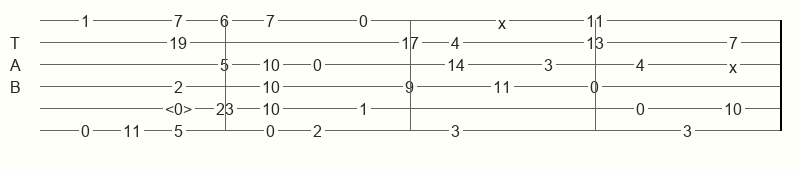0: (81, 122, 94, 138), (266, 122, 279, 138), (313, 56, 326, 72), (359, 12, 372, 28), (590, 78, 603, 94), (636, 100, 649, 116)
1: (81, 12, 94, 28), (359, 100, 372, 116)
10: (262, 78, 284, 94), (262, 100, 284, 116), (262, 56, 284, 72), (724, 100, 746, 116)
11: (123, 122, 145, 138), (493, 78, 515, 94), (586, 12, 608, 28)
13: (586, 34, 608, 50)
14: (447, 56, 469, 72)
17: (401, 34, 423, 50)
19: (169, 34, 191, 50)
2: (174, 78, 187, 94), (313, 122, 326, 138)
23: (216, 100, 238, 116)
3: (451, 122, 464, 138), (544, 56, 557, 72), (683, 122, 696, 138)
4: (451, 34, 464, 50), (636, 56, 649, 72)
5: (174, 122, 187, 138), (220, 56, 233, 72)
6: (220, 12, 233, 28)
7: (174, 12, 187, 28), (266, 12, 279, 28), (729, 34, 742, 50)
9: (405, 78, 418, 94)
harmonic: (165, 100, 196, 116)
x: (498, 14, 510, 27), (729, 58, 741, 71)
